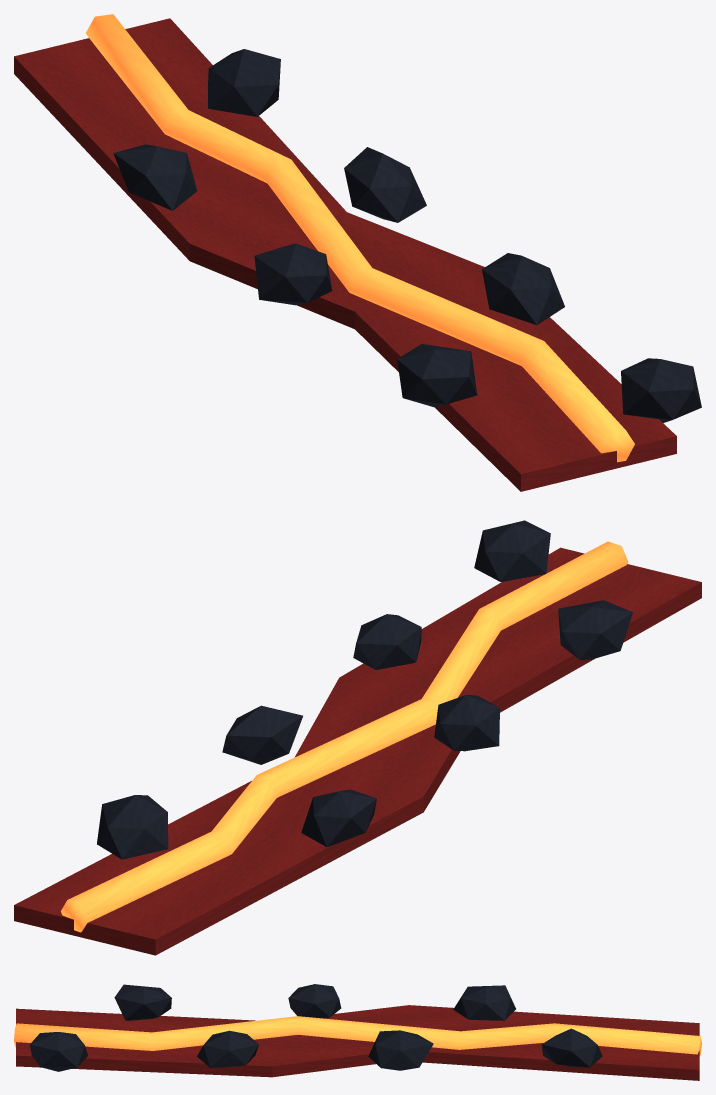
File: LavaFissure_8m.fbx
3 views of the same model, one above another, from view 1: azimuth 30°, elevation 25°; view 2: azimuth 150°, elevation 25°; view 3: azimuth 270°, elevation 25° (orthographic). The views are drawn at different scales.
Visible parts, largest first — view 1: SM_LavaFissure_8m; view 2: SM_LavaFissure_8m; view 3: SM_LavaFissure_8m.
Part boxes in pixels (x1=…): SM_LavaFissure_8m: x1=14, y1=14, x2=701, y2=491; SM_LavaFissure_8m: x1=14, y1=520, x2=701, y2=955; SM_LavaFissure_8m: x1=14, y1=984, x2=701, y2=1080.
Bounding box in the file's own units: 191 × 805 × 56.07.
1 material, 1 textured.
